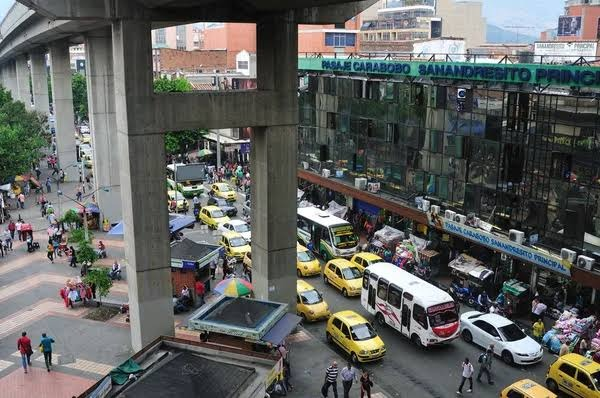car: (1, 144, 600, 377), (49, 168, 591, 366), (62, 340, 272, 398), (178, 289, 300, 354), (366, 258, 458, 344), (179, 290, 298, 353), (459, 312, 543, 367), (324, 308, 388, 368), (543, 351, 600, 398), (299, 211, 347, 259), (297, 199, 349, 237), (291, 283, 335, 325), (323, 255, 368, 296), (324, 255, 368, 296), (553, 315, 597, 353)
